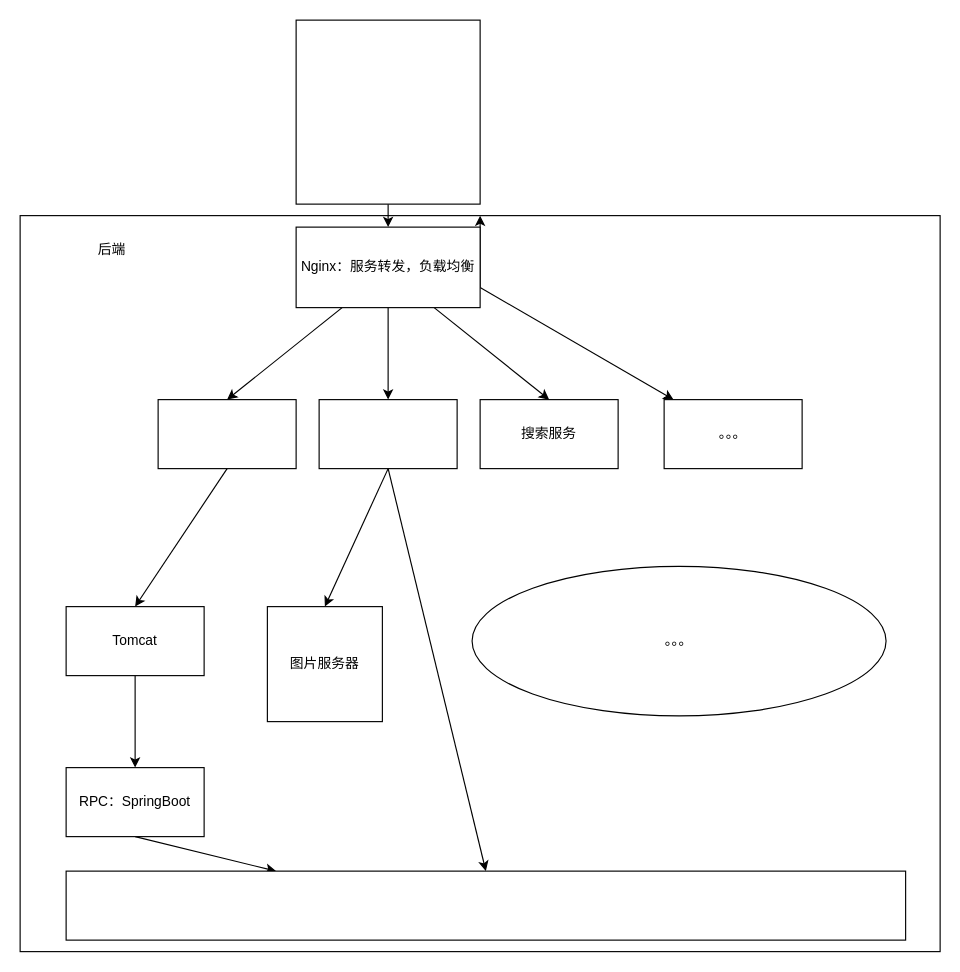
The diagram is 960 pixels wide and 972 high, and some of its shapes have lost their labels. The centre of each missing label's shape, as x and y in pixels:
"Mysql" belongs at point (485, 905).
"前端：微信小程序" belongs at point (387, 111).
"存储服务" belongs at point (387, 433).
"用户服务" belongs at point (226, 433).
